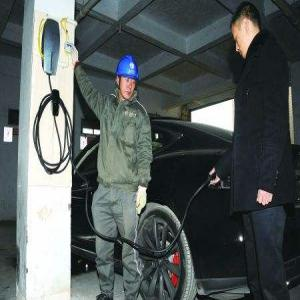blue: (115, 55, 139, 102)
none: (230, 4, 263, 60)
